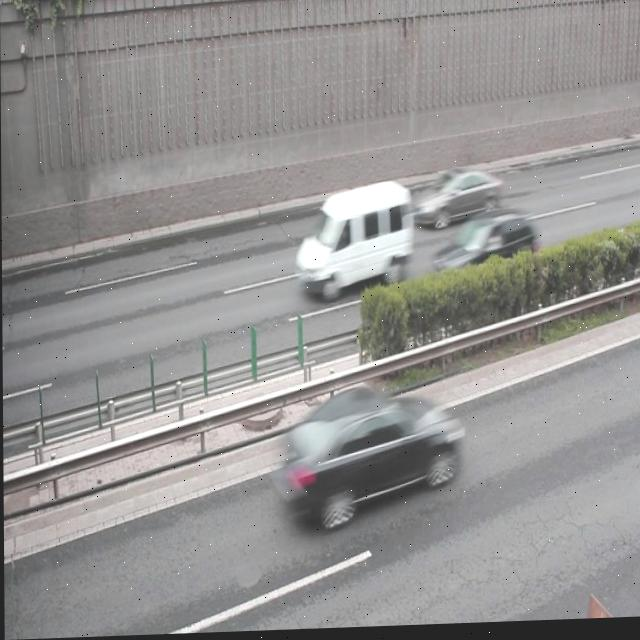car: (273, 383, 458, 530), (425, 210, 536, 300), (413, 168, 502, 233)
truck: (295, 183, 412, 300)
